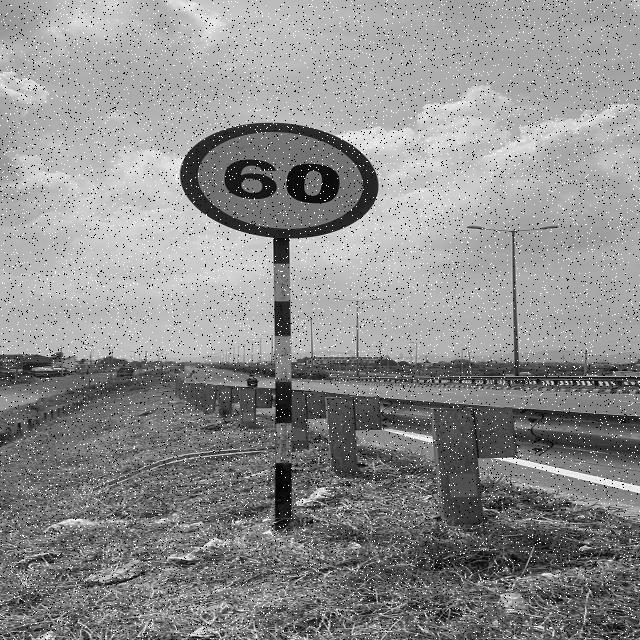speedlimit_60: (188, 125, 376, 242)
